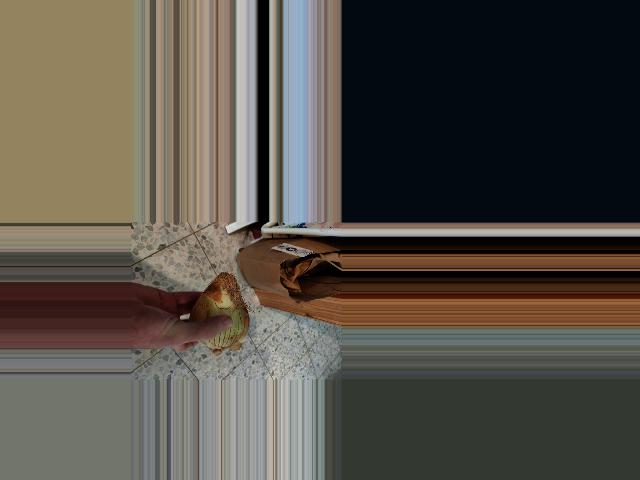onion: (183, 269, 259, 351)
